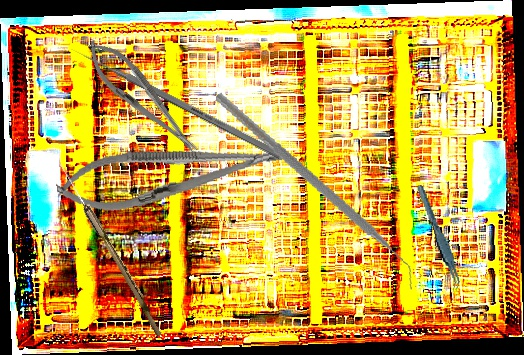Chopper: (188, 91, 440, 293)
Needle Holder: (52, 127, 291, 221), (75, 29, 209, 166)
Pusher: (69, 45, 283, 159)
Surgical Spoon: (54, 161, 167, 337)
Tissue Forceps: (416, 180, 463, 296)
